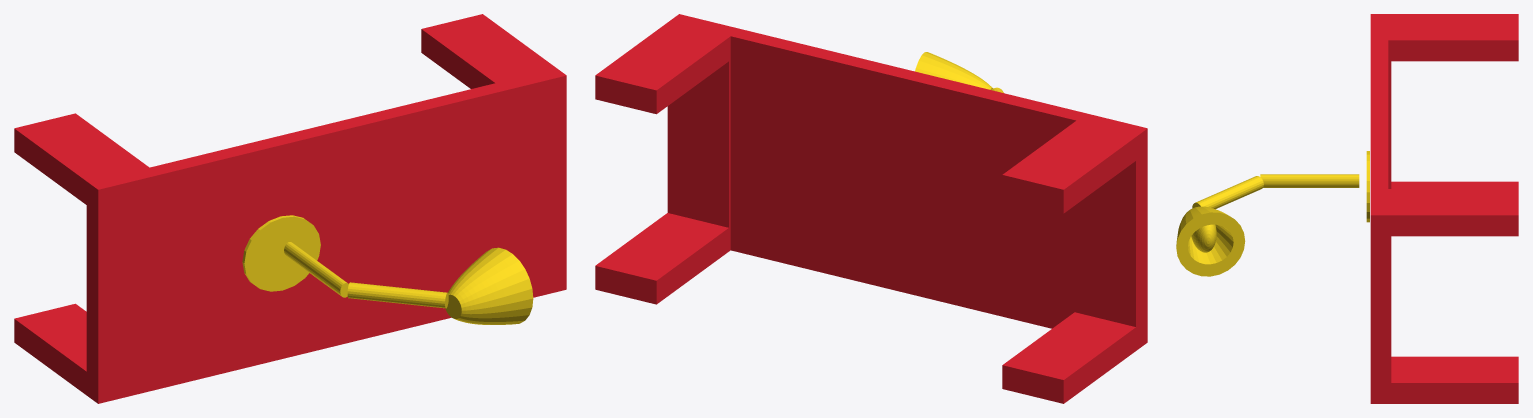
The model's file is tinker.obj.
3 views of the same model, side by side, from view 1: azimuth 30°, elevation 25°; view 2: azimuth 150°, elevation 25°; view 3: azimuth 270°, elevation 25° (orthographic). The views are drawn at different scales.
Parts seen in each view (by area): view 1: group_0_15277357, group_0_16768282; view 2: group_0_15277357, group_0_16768282; view 3: group_0_15277357, group_0_16768282.
Boxes of the visible parts, left/top/right/bottom form: group_0_15277357: left=14, top=14, right=566, bottom=403; group_0_16768282: left=242, top=215, right=533, bottom=324; group_0_15277357: left=595, top=14, right=1147, bottom=403; group_0_16768282: left=915, top=52, right=1003, bottom=92; group_0_15277357: left=1370, top=14, right=1518, bottom=403; group_0_16768282: left=1176, top=151, right=1369, bottom=276.
Bounding box in the file's own units: 135 × 58.81 × 96.78.
